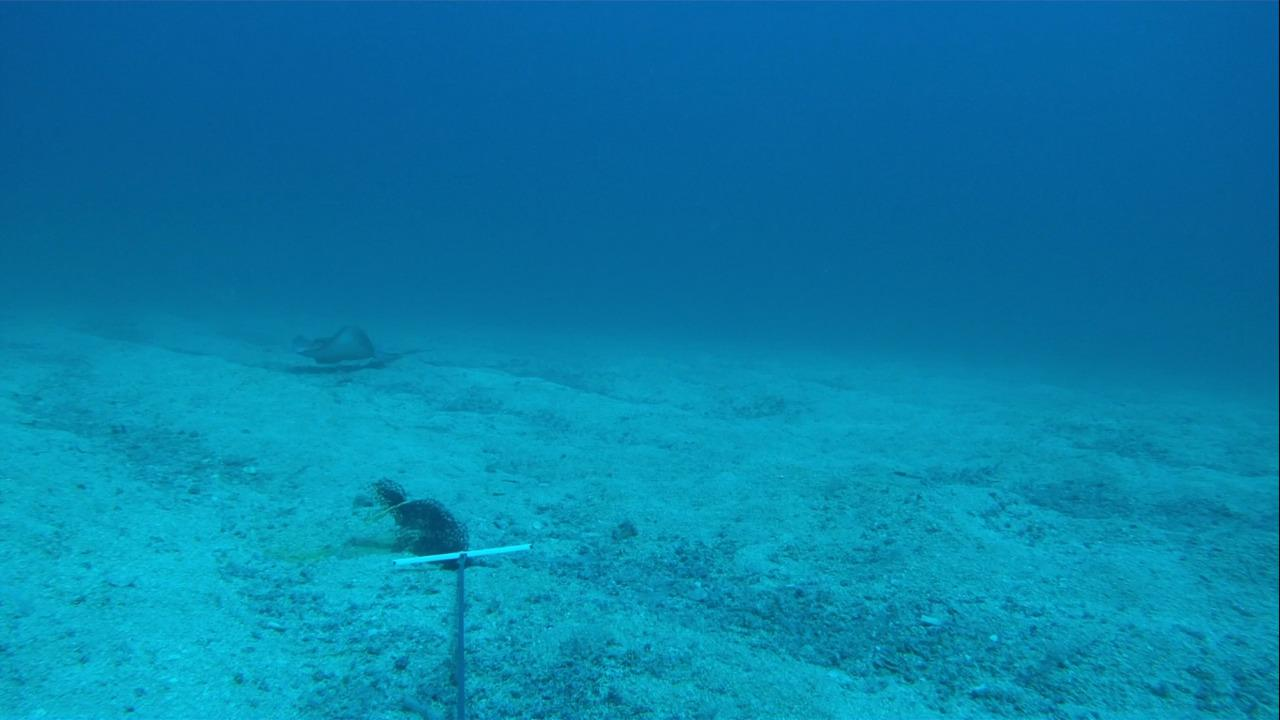myliobatis: (284, 319, 431, 375)
